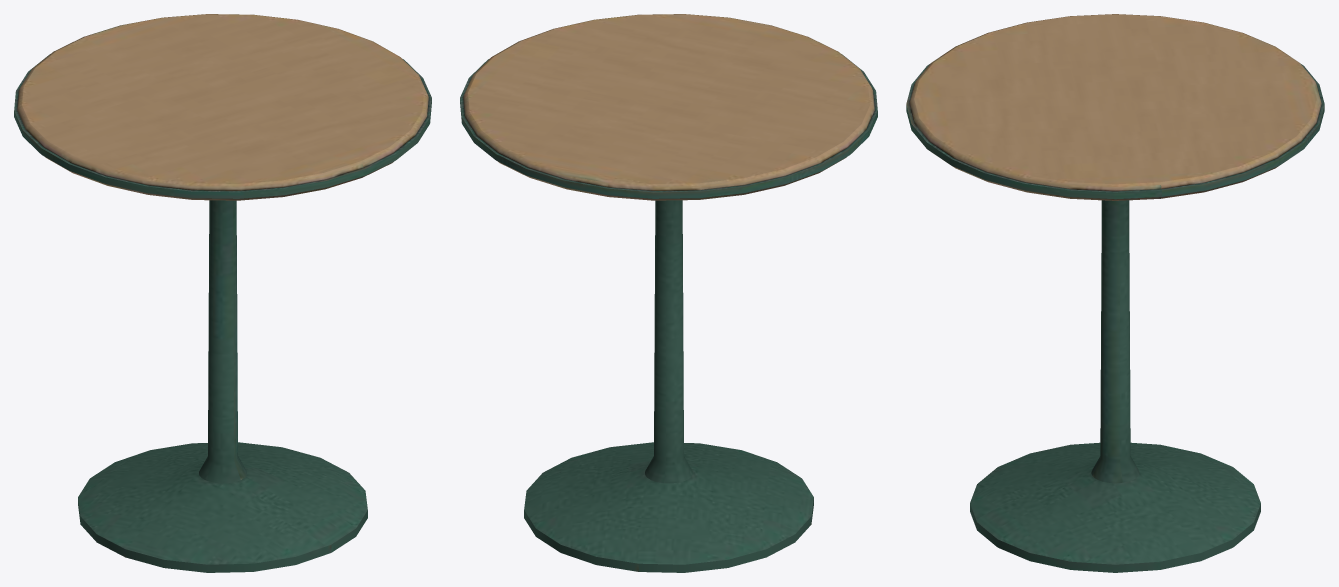
File: cafe_table.glb
3 renders of one model, left to right at view 1: azimuth 30°, elevation 25°; view 2: azimuth 150°, elevation 25°; view 3: azimuth 270°, elevation 25°, orthographic.
Parts seen in each view (by area): view 1: base; view 2: base; view 3: base.
Boxes of the visible parts, bbox=[...] form: base: bbox=[14, 14, 431, 572]; base: bbox=[460, 14, 877, 572]; base: bbox=[906, 14, 1324, 572].
Bounding box in the file's own units: 0.69 × 0.75 × 0.69.
Materials: 1 (1 with a texture image).
